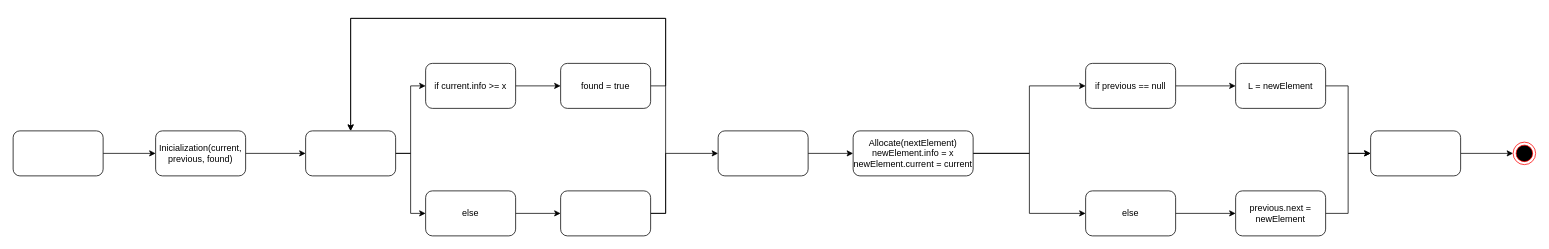
Image size: 1549x249. Some labels were removed from this diagram. Here are the shapes that lost their labels. From the top down, the centre of each, then its label:
At point 57,153: "Insert(x, y)".
At point 350,153: "while(current != null and found = false)".
At point 762,153: "End If End While".
At point 1415,153: "End if".
At point 605,213: "previous = current current = current.next".
